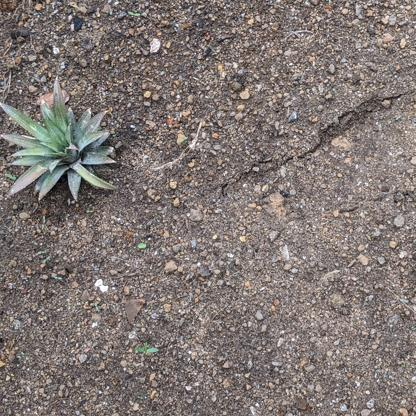pineapple: (1, 76, 119, 207)
